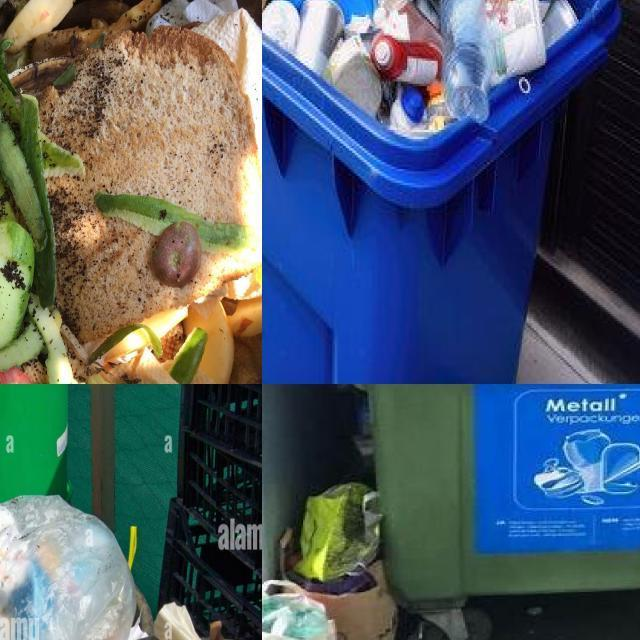Garbage: (262, 0, 600, 152), (0, 495, 153, 640)
Plastic_Bag: (0, 495, 137, 640)
Plastic_Container: (371, 33, 442, 86)
Plastic_bottle: (440, 0, 492, 123)
tin_box: (296, 0, 344, 75)
